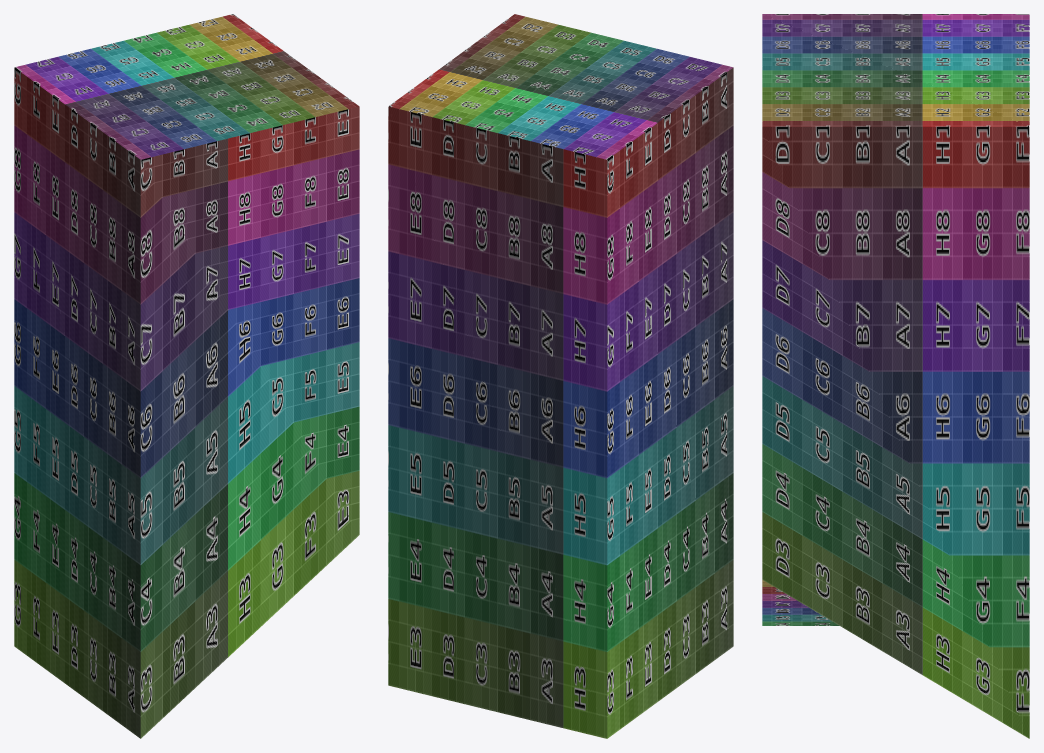
The model's file is khr_texture_transform.glb.
3 renders of one model, left to right at view 1: azimuth 30°, elevation 25°; view 2: azimuth 150°, elevation 25°; view 3: azimuth 270°, elevation 25°, orthographic. The views are drawn at different scales.
Visible parts, largest first — view 1: Cube; view 2: Cube; view 3: Cube.
Part boxes in pixels (x1,y1,x2,y2): Cube: (14, 14, 359, 738); Cube: (388, 14, 733, 738); Cube: (762, 14, 1029, 738).
Bounding box in the file's own units: 2 × 5.06 × 2.
Materials: 1 (1 with a texture image).
